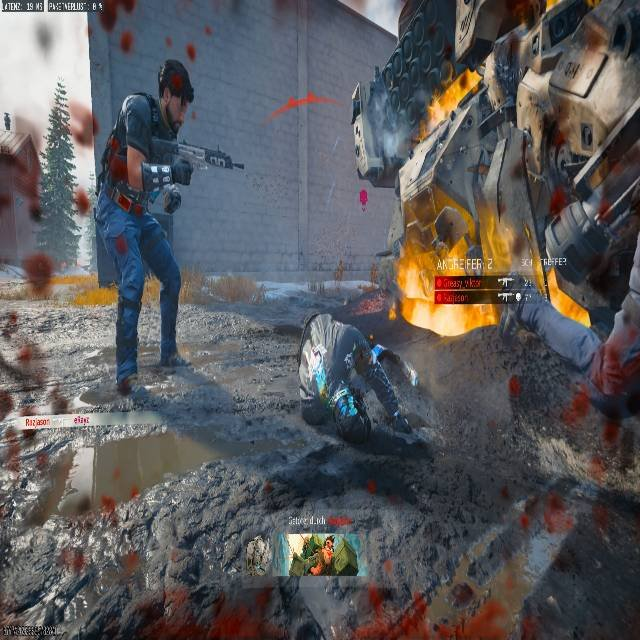head: (156, 59, 194, 122)
player: (96, 58, 196, 393), (0, 99, 44, 280)
